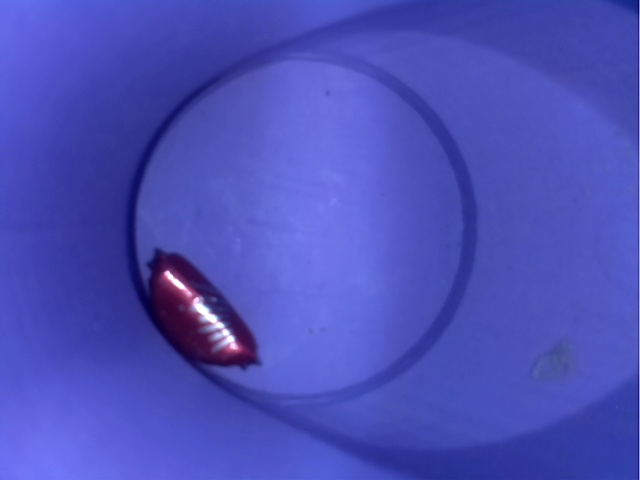capsule: (121, 230, 285, 391)
